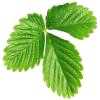Strawberry leaf: (42, 31, 84, 99), (2, 11, 45, 73), (46, 0, 96, 33)
